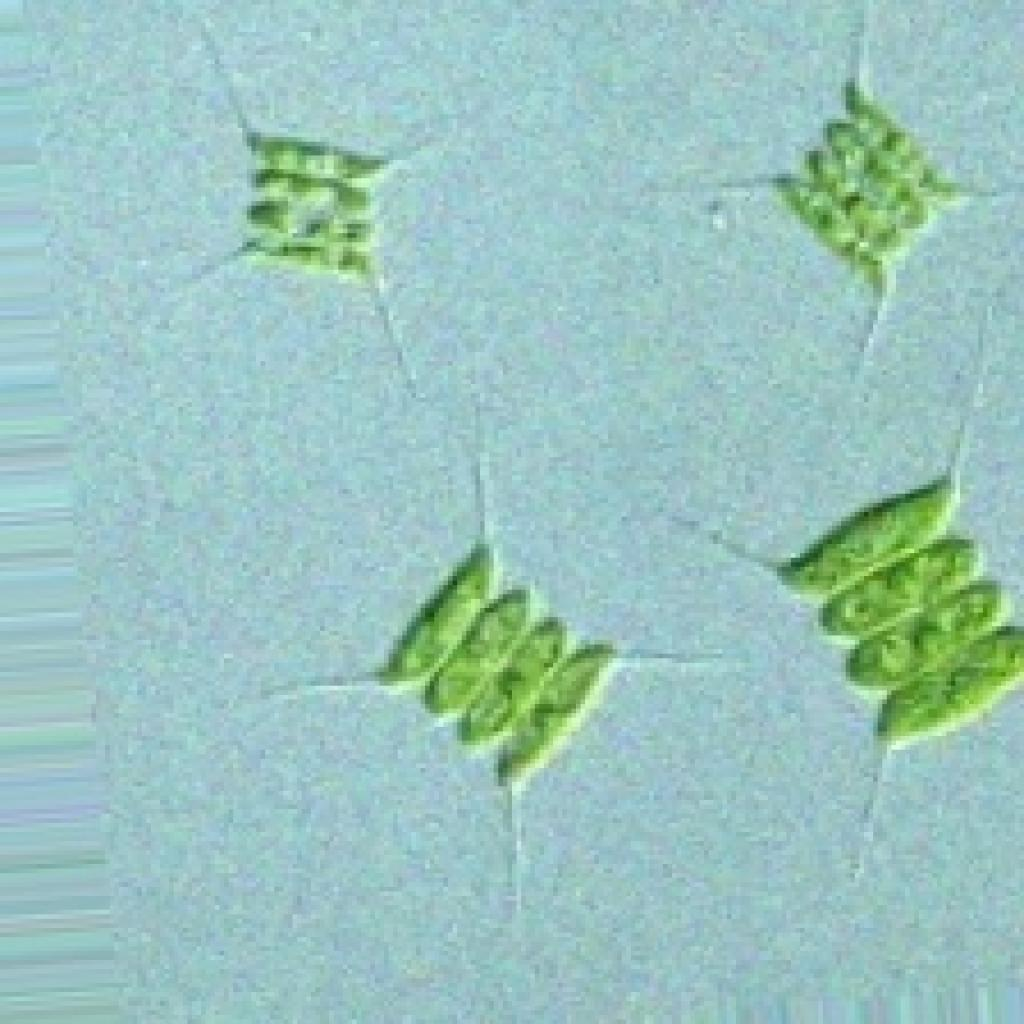Microalgae: (131, 30, 540, 372), (604, 82, 1024, 396), (688, 451, 1024, 796), (352, 476, 638, 846)
